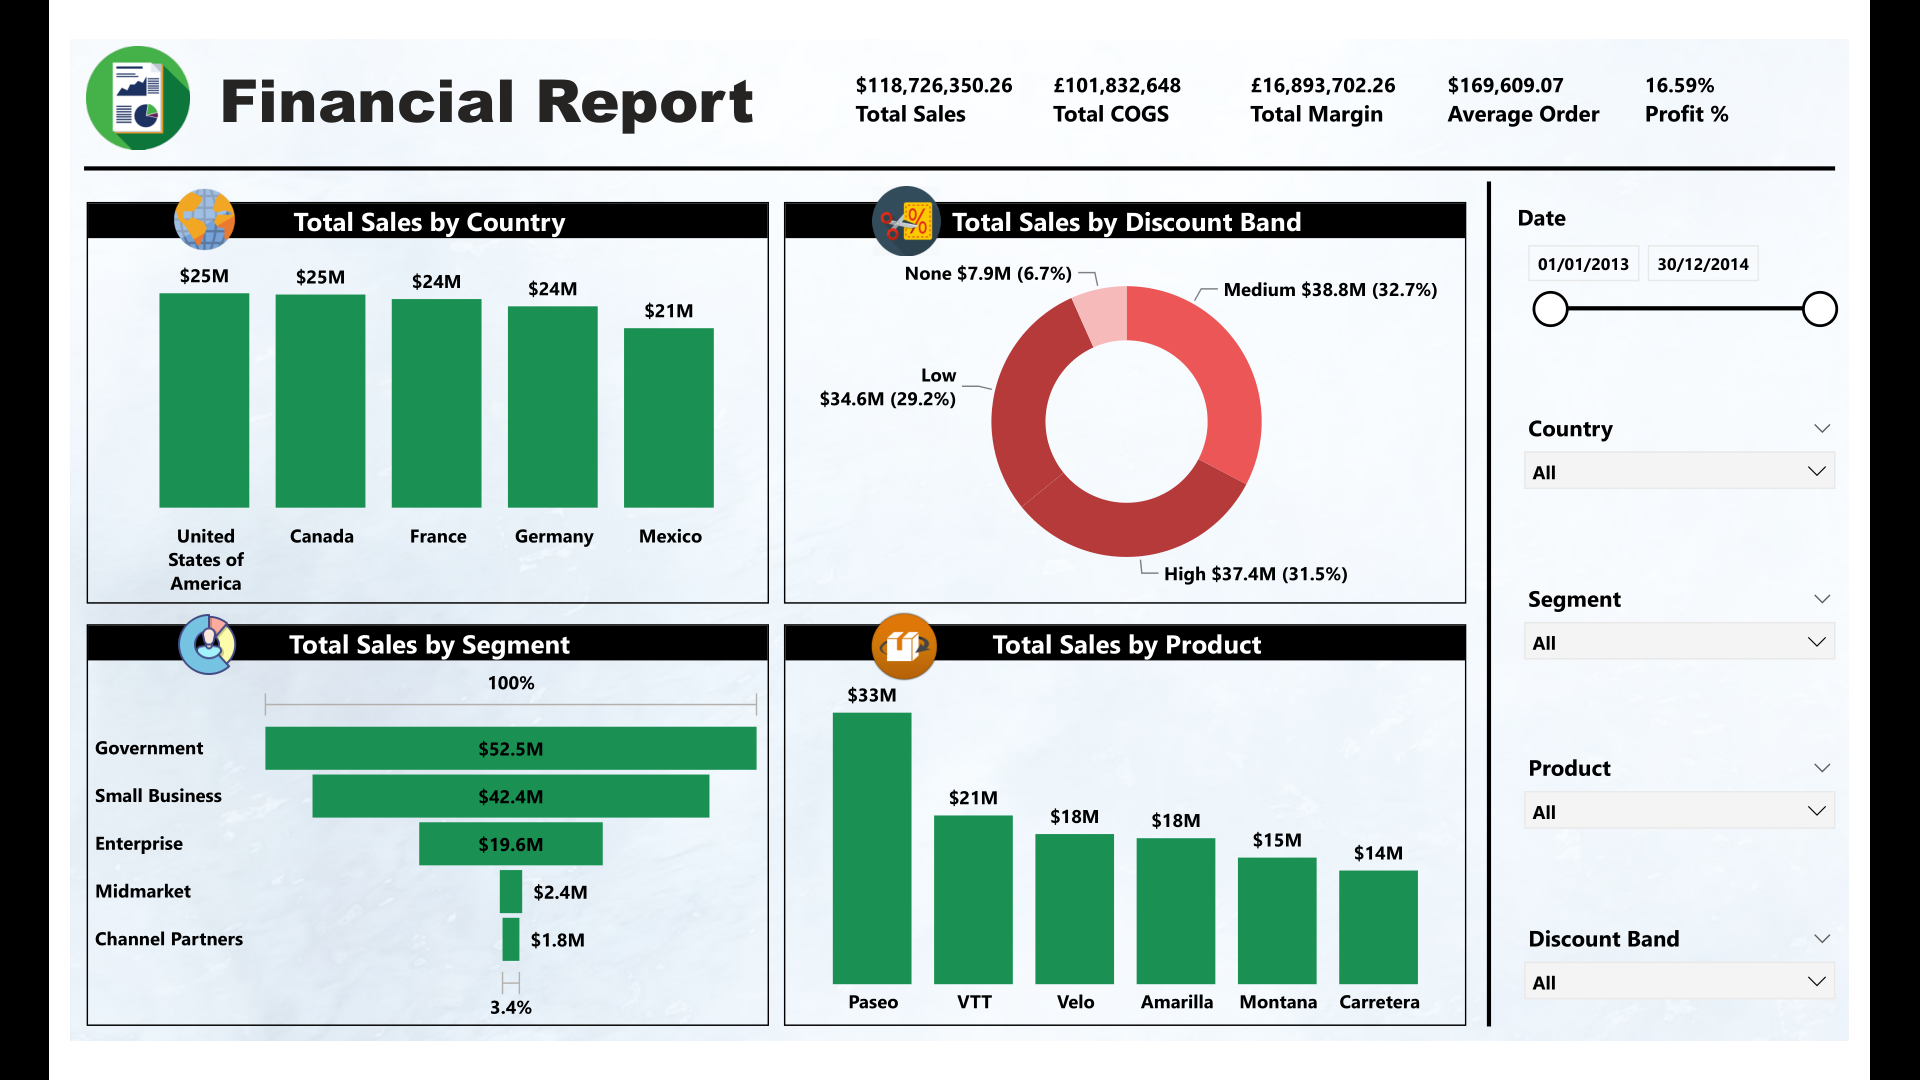

The page's visual inventory and layout, read from the dashboard file:
{"tool":"powerbi","page":{"name":"Financials","canvas":[1280,720],"ordinal":0},"visuals":[{"type":"textbox","box":[97.3,6.8,405.2,70.2],"z":0},{"type":"image","box":[0,0,97.3,83.7],"z":1000},{"type":"basicShape","box":[0,83.7,1280,17],"z":2000},{"type":"clusteredColumnChart","fields":{"Y":["All Measures.Total Sales"],"Category":["Financials.Country"]},"box":[11.8,116.7,491.5,288.8],"z":3000},{"type":"donutChart","fields":{"Category":["Financials.Discount Band"],"Y":["All Measures.Total Sales"]},"box":[513.9,116.7,491.5,288.8],"z":4000},{"type":"basicShape","box":[1014.8,91.9,13,628.2],"z":5000},{"type":"clusteredColumnChart","fields":{"Y":["All Measures.Total Sales"],"Category":["Financials.Product"]},"box":[513.9,420.8,491.5,288.8],"z":6000},{"type":"funnel","fields":{"Category":["Financials.Segment"],"Y":["All Measures.Total Sales"]},"box":[11.8,420.8,491.5,288.8],"z":7000},{"type":"multiRowCard","fields":{"Values":["All Measures.Total Sales","All Measures.Total COGS","All Measures.Total Margin","All Measures.Average Order","All Measures.Profit %"]},"box":[560.1,16.6,719.9,50.7],"z":8000},{"type":"slicer","fields":{"Values":["Financials.Country"]},"box":[1036.5,263.5,243.5,78.9],"z":9000},{"type":"slicer","fields":{"Values":["Financials.Segment"]},"box":[1036.5,385.8,243.5,78.9],"z":10000},{"type":"slicer","fields":{"Values":["Financials.Product"]},"box":[1036.5,508,243.5,78.9],"z":11000},{"type":"slicer","fields":{"Values":["Financials.Discount Band"]},"box":[1036.5,630.3,243.5,78.9],"z":12000},{"type":"slicer","title":"Date","fields":{"Values":["Date.Date"]},"box":[1036.5,116.9,243.5,106.2],"z":13000},{"type":"image","box":[65,95.9,62.9,67.1],"z":14000},{"type":"image","box":[564.9,101.2,72.5,58.6],"z":15000},{"type":"image","box":[72.5,405,55.4,59.7],"z":16000},{"type":"image","box":[560.6,406.1,79.9,61.8],"z":17000}]}

Visuals, with their boxes in screenshot pixels (x1, y1, x2, y2), scaled from the page's 1280x720 canvas onto the 1920x1080 screenshot:
textbox: l=146, t=10, r=754, b=116
image: l=0, t=0, r=146, b=126
basicShape: l=0, t=126, r=1919, b=151
clusteredColumnChart - All Measures.Total Sales x Financials.Country: l=18, t=175, r=755, b=608
donutChart - Financials.Discount Band x All Measures.Total Sales: l=771, t=175, r=1508, b=608
basicShape: l=1522, t=138, r=1542, b=1079
clusteredColumnChart - All Measures.Total Sales x Financials.Product: l=771, t=631, r=1508, b=1064
funnel - Financials.Segment x All Measures.Total Sales: l=18, t=631, r=755, b=1064
multiRowCard - All Measures.Total Sales x All Measures.Total COGS: l=840, t=25, r=1919, b=101
slicer - Financials.Country: l=1555, t=395, r=1919, b=514
slicer - Financials.Segment: l=1555, t=579, r=1919, b=697
slicer - Financials.Product: l=1555, t=762, r=1919, b=880
slicer - Financials.Discount Band: l=1555, t=945, r=1919, b=1064
"Date" slicer: l=1555, t=175, r=1919, b=335
image: l=98, t=144, r=192, b=244
image: l=847, t=152, r=956, b=240
image: l=109, t=608, r=192, b=697
image: l=841, t=609, r=961, b=702
